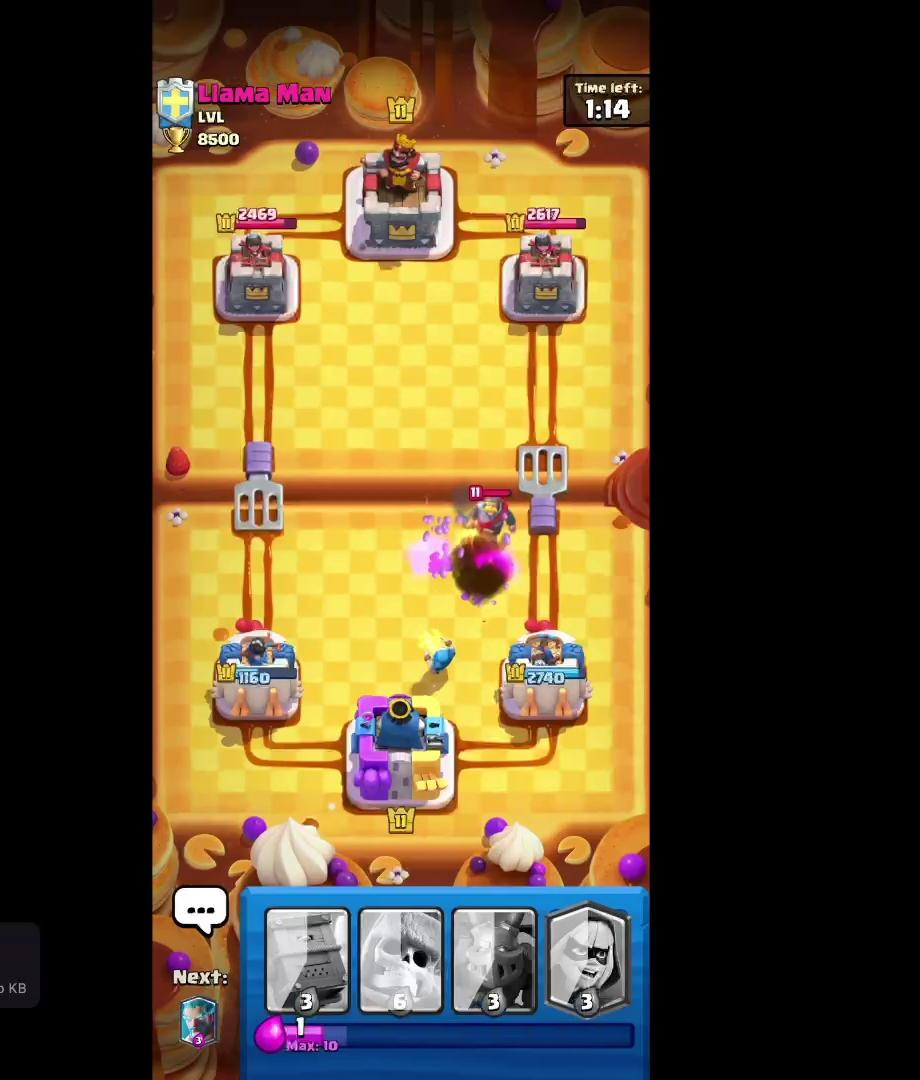Knight: (467, 475, 528, 547)
